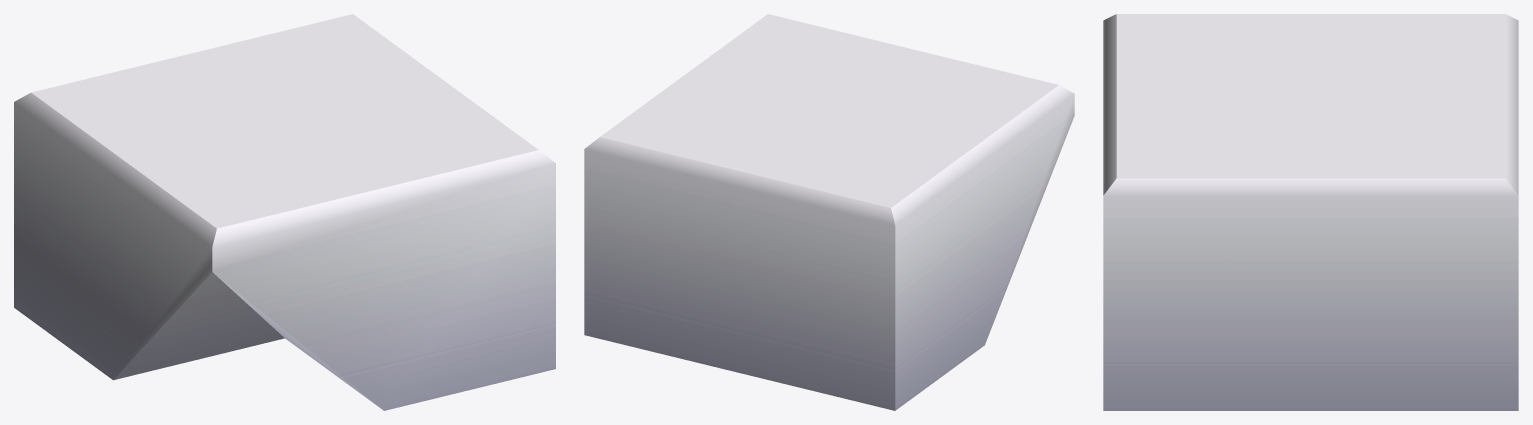
File: none-hq-brick-slope-corner-inside-inverted-2x2.glb
3 views of the same model, side by side, from view 1: azimuth 30°, elevation 25°; view 2: azimuth 150°, elevation 25°; view 3: azimuth 270°, elevation 25° (orthographic). The views are drawn at different scales.
Parts seen in each view (by area): view 1: none-hq-brick-slope-corner-inside-inverted-2x2; view 2: none-hq-brick-slope-corner-inside-inverted-2x2; view 3: none-hq-brick-slope-corner-inside-inverted-2x2.
Part boxes in pixels (left/top/right/bottom): none-hq-brick-slope-corner-inside-inverted-2x2: left=14, top=14, right=555, bottom=410; none-hq-brick-slope-corner-inside-inverted-2x2: left=584, top=14, right=1074, bottom=410; none-hq-brick-slope-corner-inside-inverted-2x2: left=1103, top=14, right=1518, bottom=410.
Bounding box in the file's own units: 0.159 × 0.096 × 0.159.
1 material, 1 textured.
